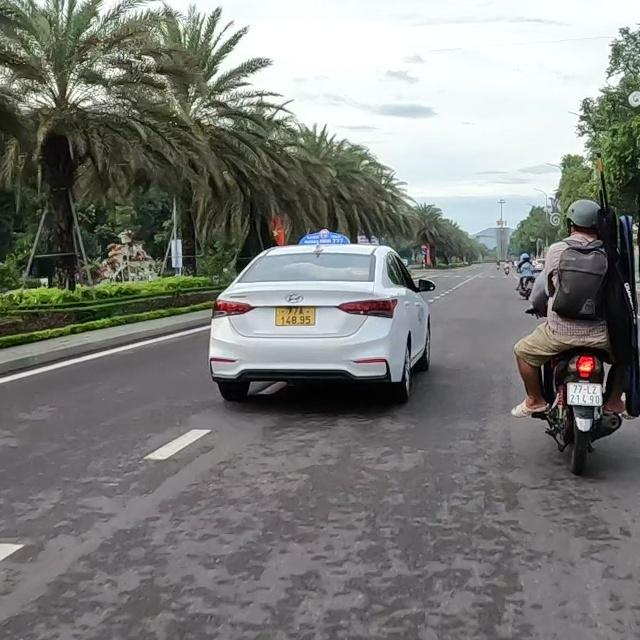license-plate: (566, 382, 604, 406), (275, 306, 315, 326)
